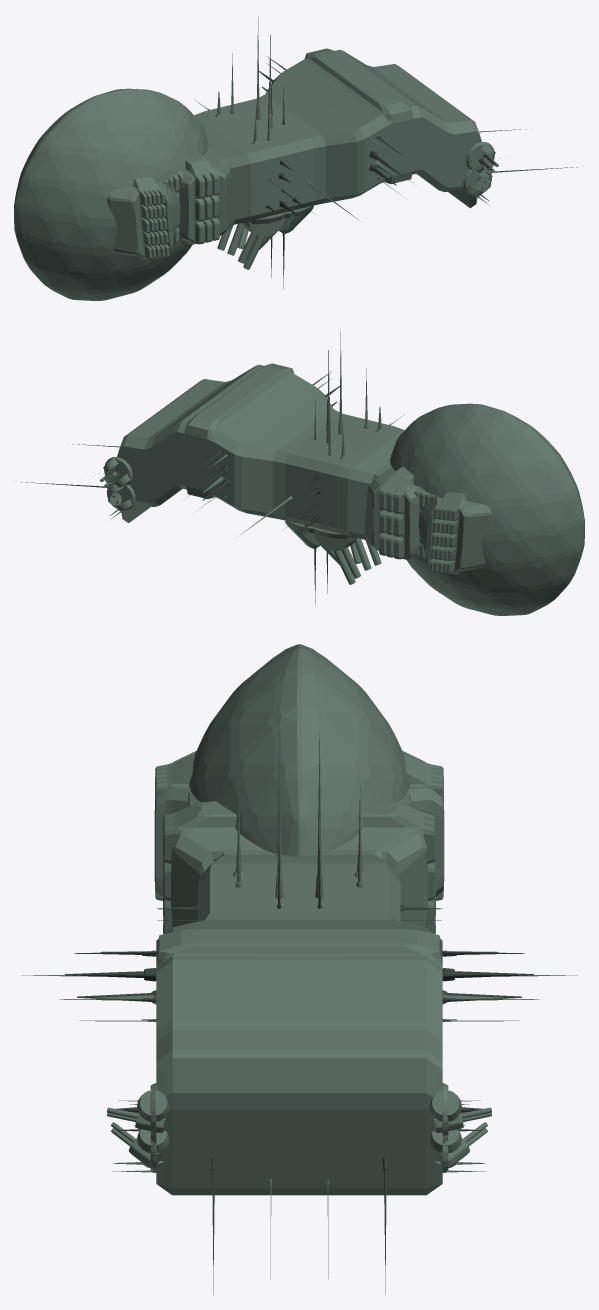
The model's file is bvais6.fbx.
The picture shows the model from 3 angles, top to bottom: view 1: azimuth 30°, elevation 25°; view 2: azimuth 150°, elevation 25°; view 3: azimuth 270°, elevation 25°; orthographic projection. The views are drawn at different scales.
Parts seen in each view (by area): view 1: Spaceship; view 2: Spaceship; view 3: Spaceship.
Part boxes in pixels (x1,y1,x2,y2): Spaceship: (14, 17, 577, 300); Spaceship: (21, 332, 584, 615); Spaceship: (21, 644, 577, 1294).
Size of the model in its own units: 1001 by 478 by 549.
